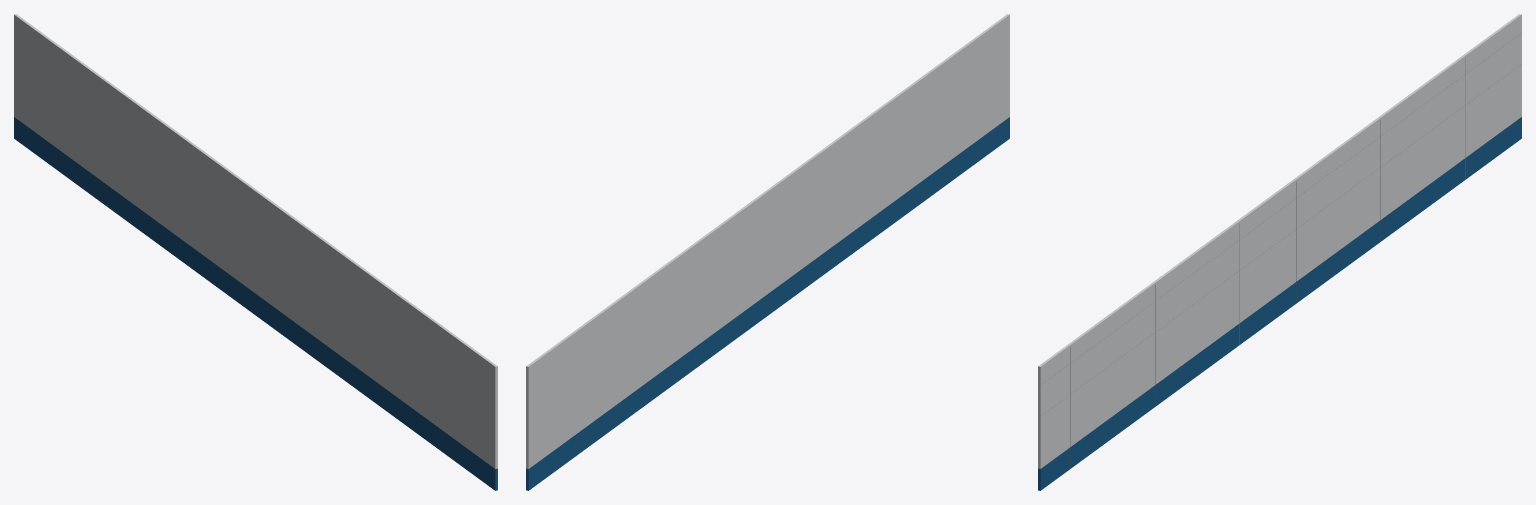
File: SM_MPR3_Facade_05.fbx
3 views of the same model, side by side, from view 1: azimuth 30°, elevation 25°; view 2: azimuth 150°, elevation 25°; view 3: azimuth 330°, elevation 25° (orthographic).
Parts seen in each view (by area): view 1: SM_MPR3_Facade_05; view 2: SM_MPR3_Facade_05; view 3: SM_MPR3_Facade_05.
Boxes of the visible parts, x1,y1,x2,y2 form: SM_MPR3_Facade_05: (14, 14, 497, 490); SM_MPR3_Facade_05: (526, 14, 1009, 490); SM_MPR3_Facade_05: (1038, 14, 1521, 490).
Size of the model in its own units: 31.44 by 10409 by 1480.
